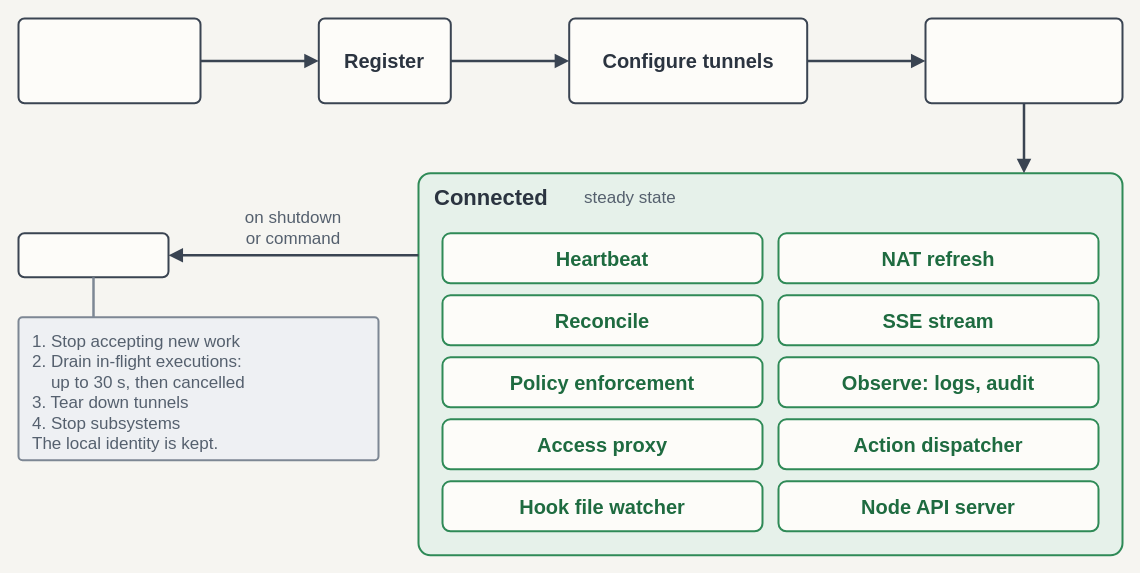
The diagram is 1140 pixels wide and 573 high, and some of its shapes have lost their labels. The shapes that lost their labels are listed below. From the top down, each one's box as (x1, y1, x2, y2) in pixels, then its label:
(17, 17, 201, 104): Start binary checksum hook scan
(924, 17, 1123, 104): NAT discovery STUN
(17, 232, 169, 278): Shutdown
